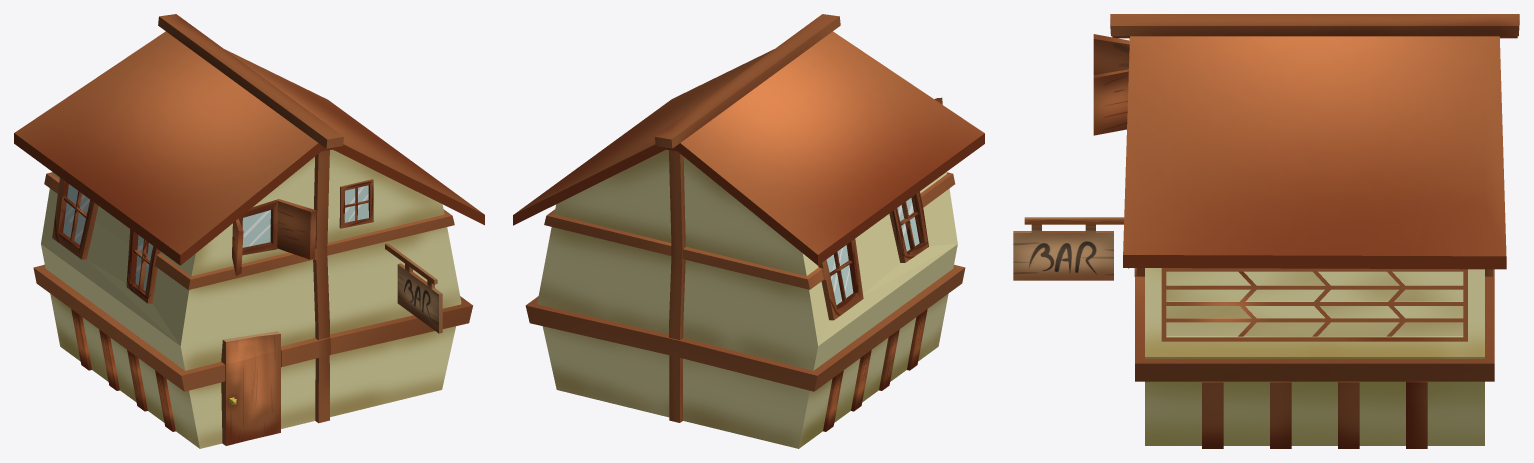
The model's file is Batiment3_texturé.fbx.
3 views of the same model, side by side, from view 1: azimuth 30°, elevation 25°; view 2: azimuth 150°, elevation 25°; view 3: azimuth 270°, elevation 25° (orthographic). The views are drawn at different scales.
Parts seen in each view (by area): view 1: Batiement3; view 2: Batiement3; view 3: Batiement3.
Part boxes in pixels (box(x1,y1,x2,y2)): Batiement3: box(14, 14, 484, 448); Batiement3: box(513, 14, 984, 448); Batiement3: box(1013, 14, 1519, 448).
Size of the model in its own units: 2558 by 2307 by 2978.
Materials: 1 (1 with a texture image).
